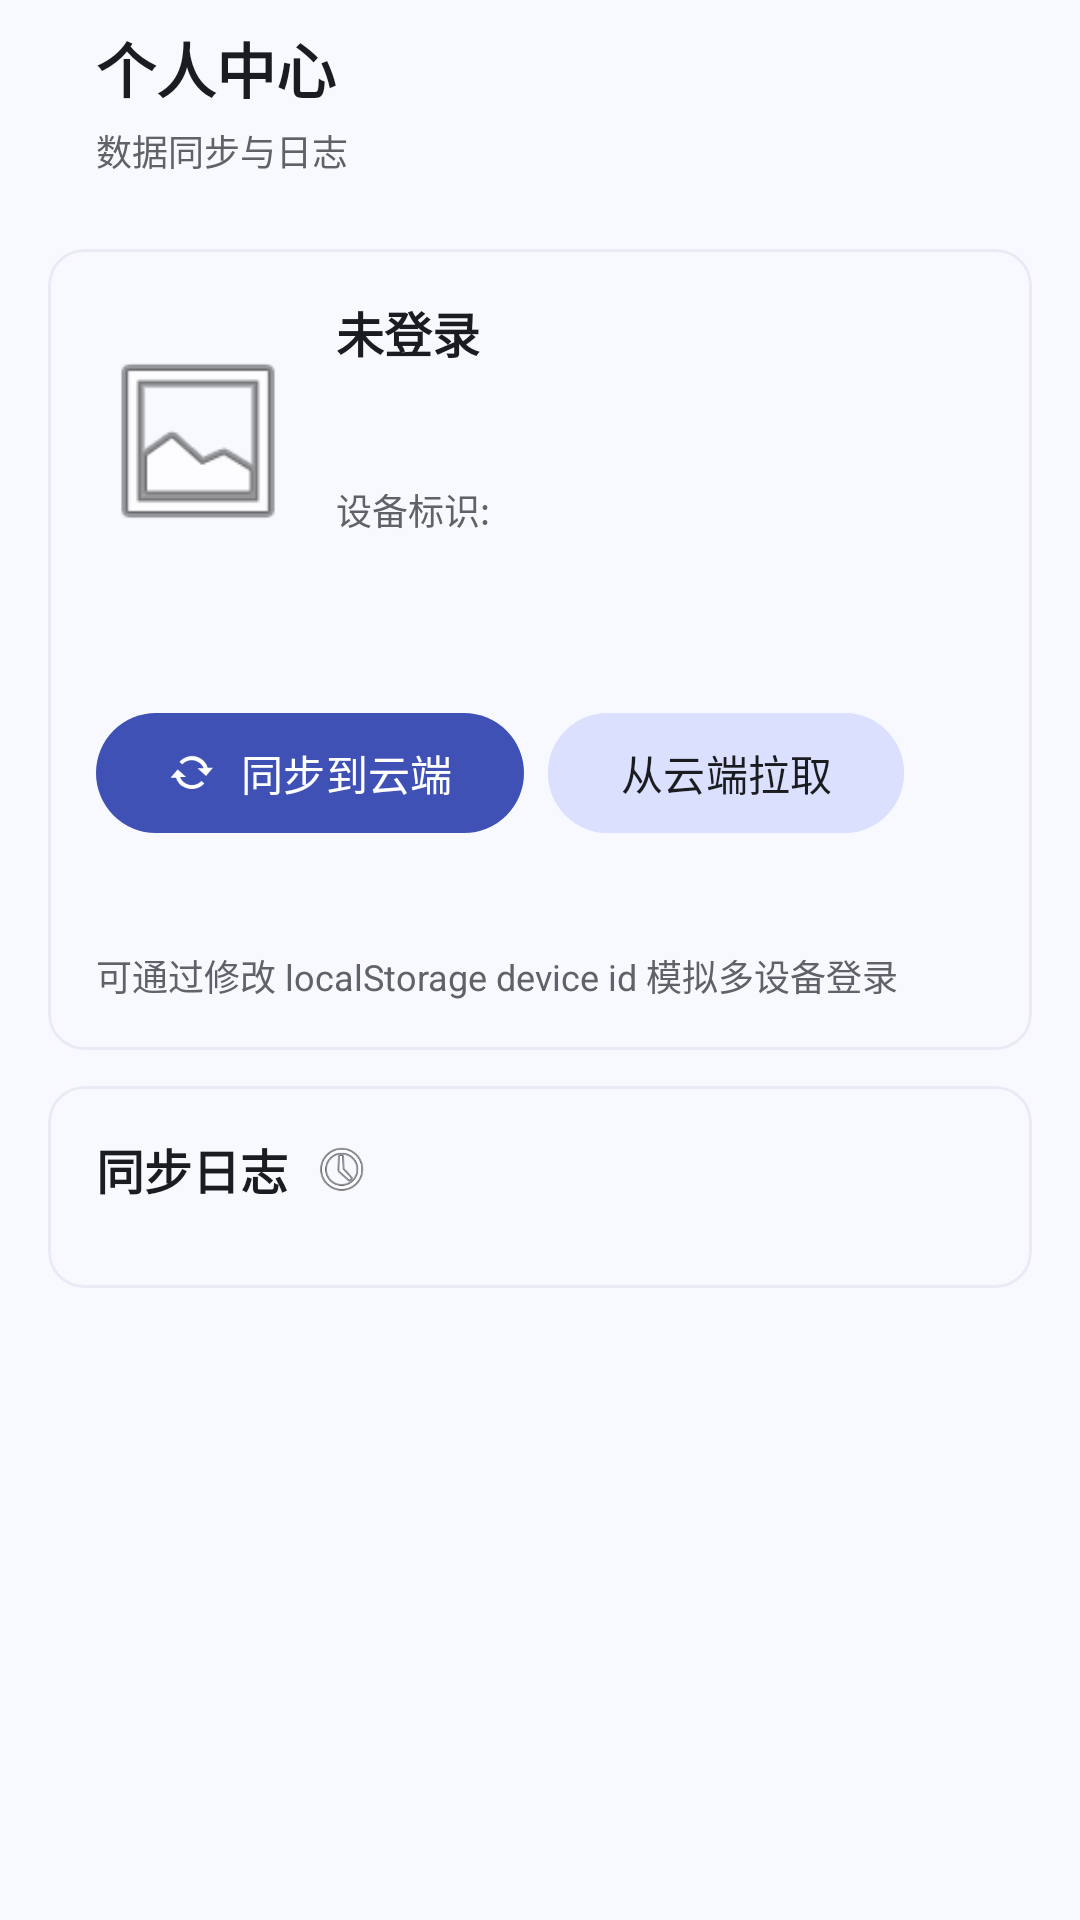

Named icons in this screenshot (1080 × 1920) and their bounding boxes, (x1, y1, x2, y2):
日志图标: (320, 1148, 363, 1191)
